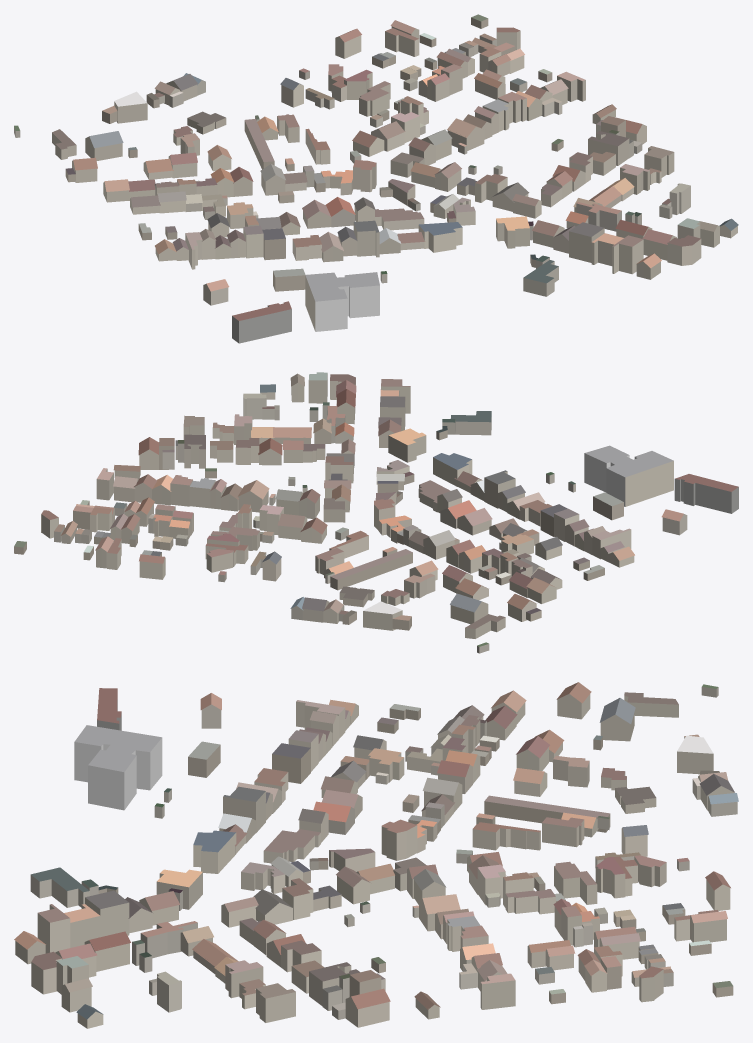
3 renders of one model, top to bottom at view 1: azimuth 30°, elevation 25°; view 2: azimuth 150°, elevation 25°; view 3: azimuth 270°, elevation 25°, orthographic. The views are drawn at different scales.
Parts seen in each view (by area): view 1: tuile; view 2: tuile; view 3: tuile.
Boxes of the visible parts, x1,y1,x2,y2 form: tuile: (14,14,738,343); tuile: (14,372,738,653); tuile: (14,682,738,1028).
Bounding box in the file's own units: 267 × 25.71 × 259.
